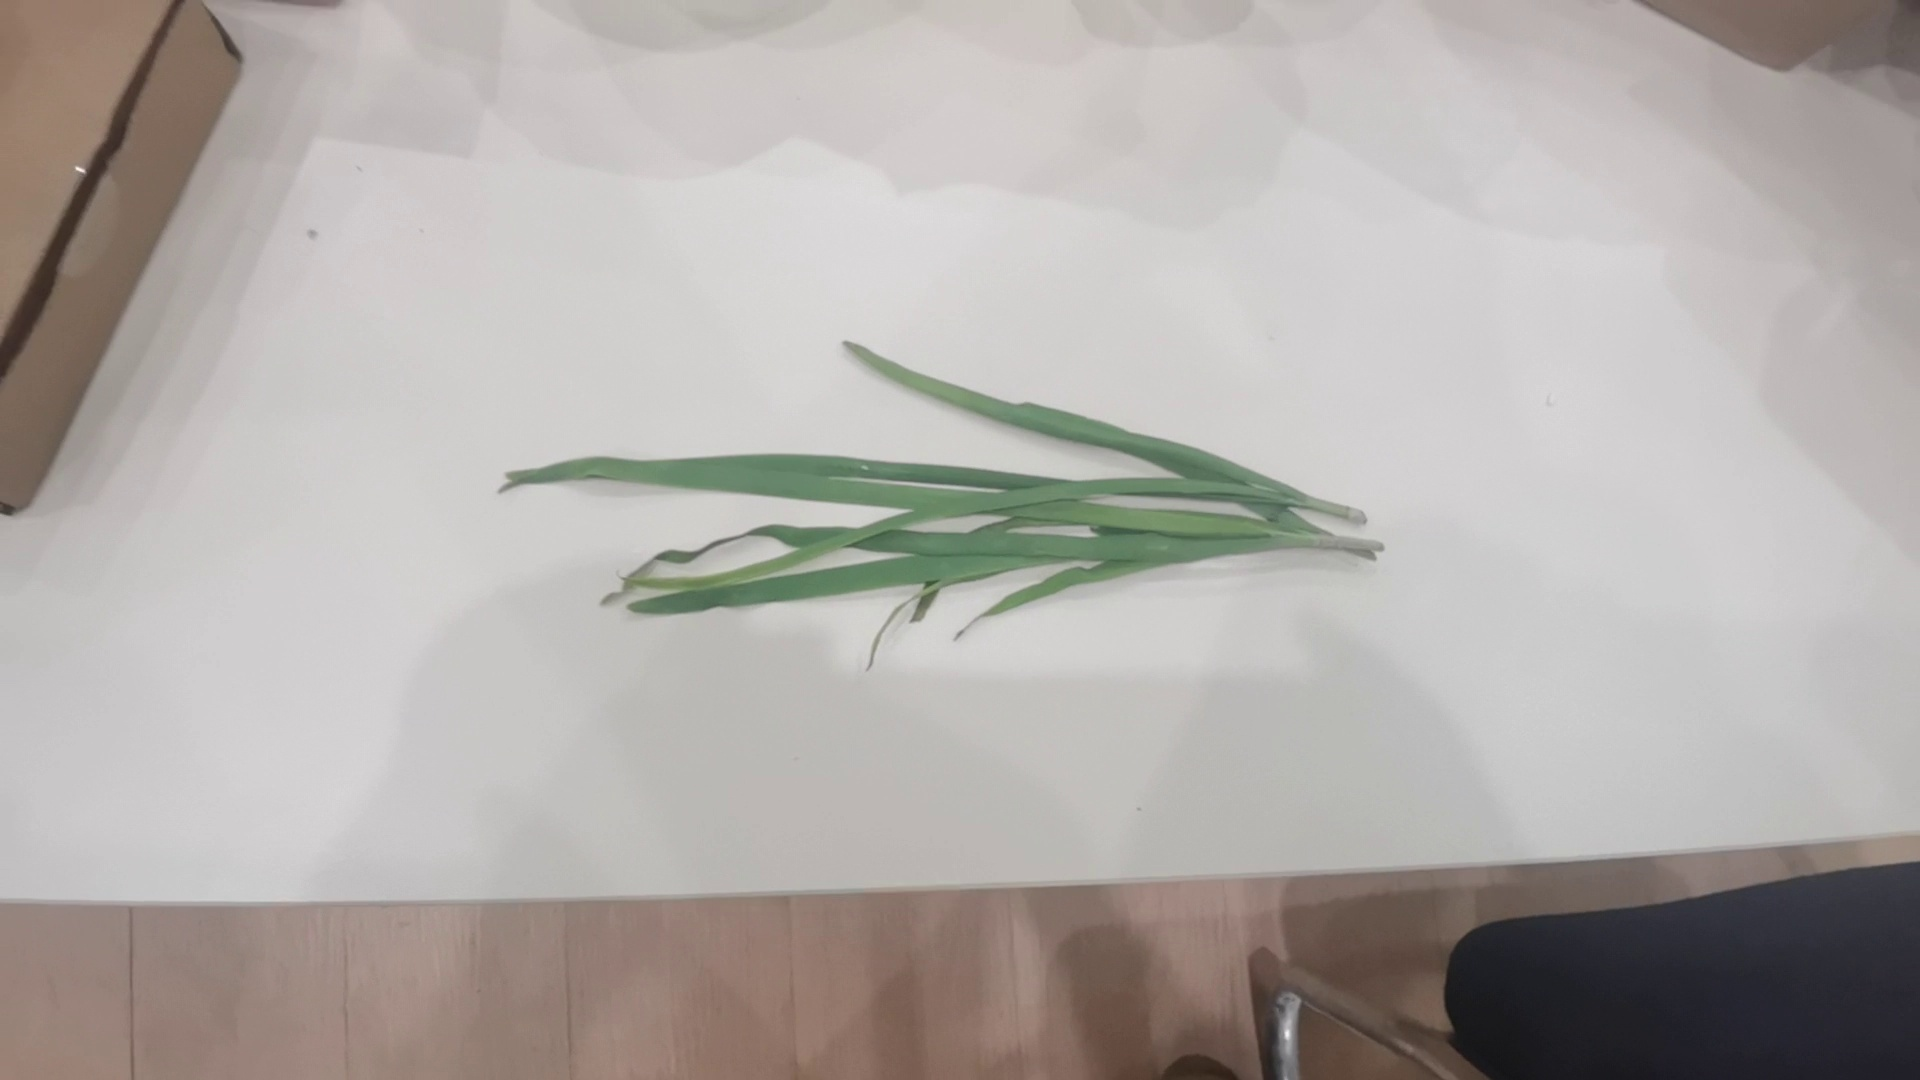chives: (501, 328, 1385, 673)
